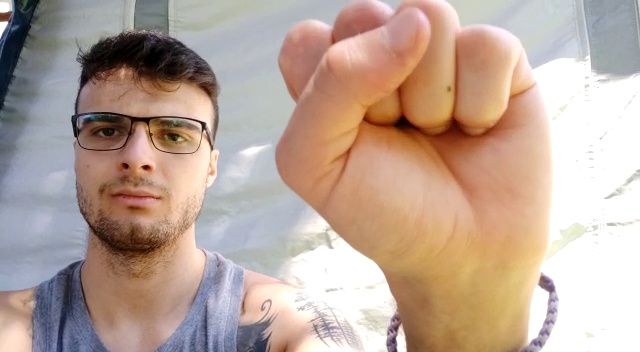Fist: (266, 1, 571, 272)
